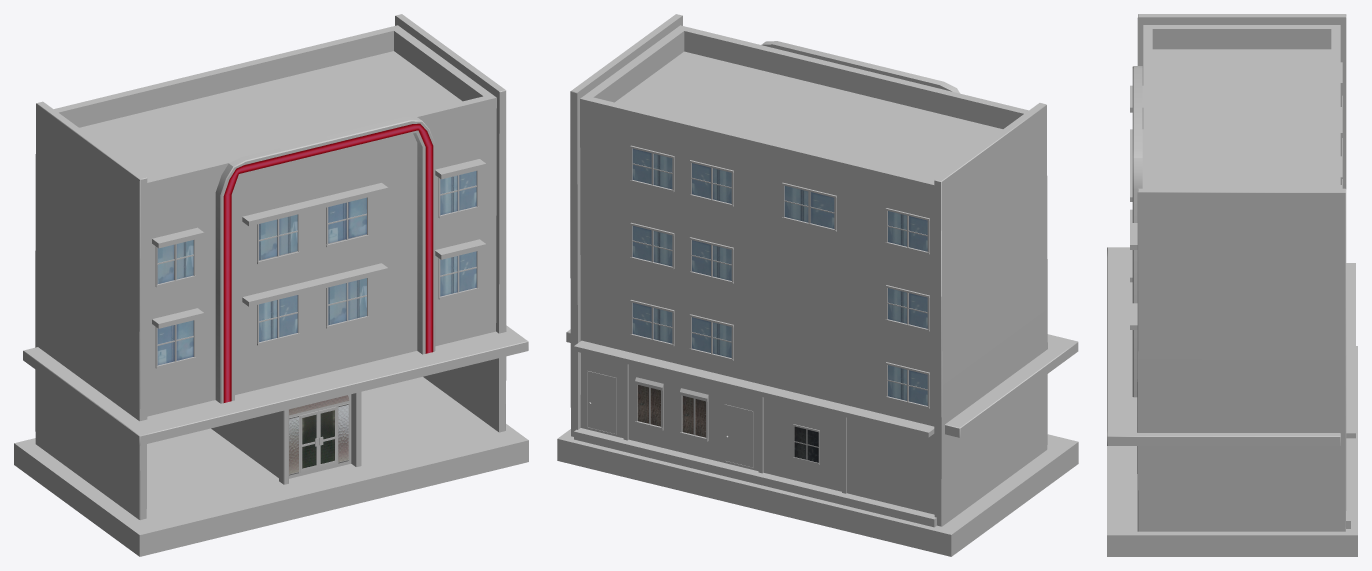
Rendered from bldg_mall_02a.fbx.
3 views of the same model, side by side, from view 1: azimuth 30°, elevation 25°; view 2: azimuth 150°, elevation 25°; view 3: azimuth 270°, elevation 25° (orthographic).
Parts seen in each view (by area): view 1: bldg_mall_02a; view 2: bldg_mall_02a; view 3: bldg_mall_02a.
Boxes of the visible parts, box(x1,y1,x2,y2) form: bldg_mall_02a: box(14, 14, 528, 556); bldg_mall_02a: box(557, 14, 1078, 556); bldg_mall_02a: box(1107, 14, 1357, 556).
Bounding box in the file's own units: 14.65 × 13.04 × 8.2.
